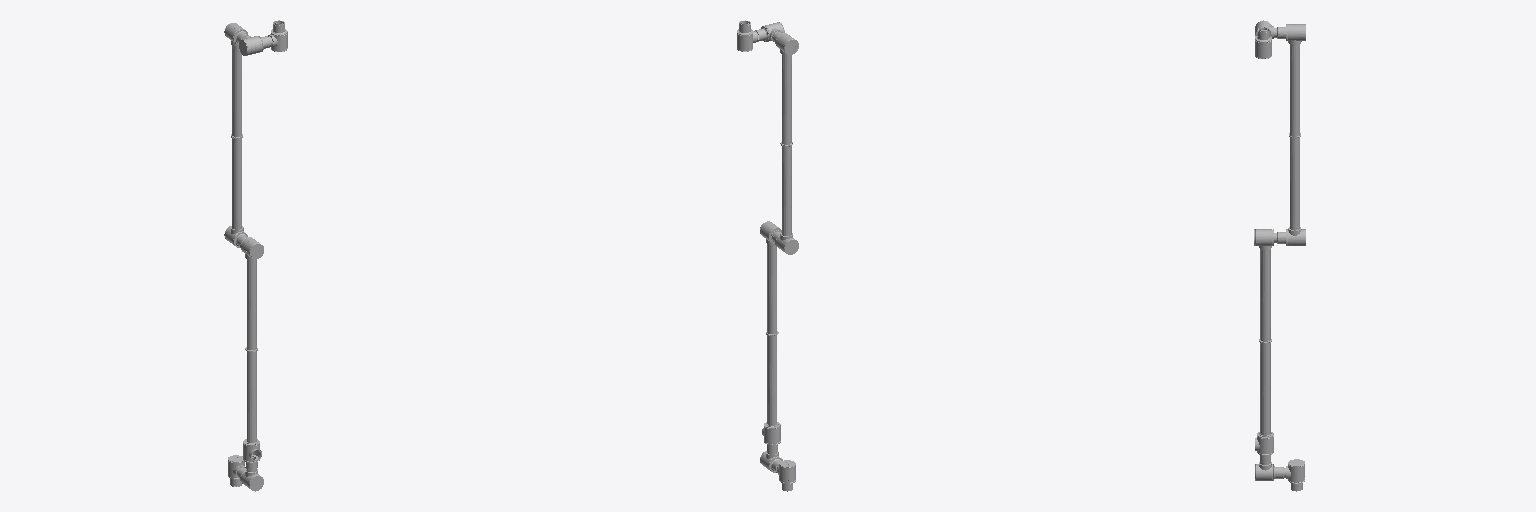
The robot description file, URDF, robot "urdf0fixed":
<?xml version="1.0" encoding="utf-8"?>
<!-- This URDF was automatically created by SolidWorks to URDF Exporter! Originally created by Stephen Brawner ([email redacted]) 
     Commit Version: 1.6.0-4-g7f85cfe  Build Version: 1.6.7995.38578
     For more information, please see http://wiki.ros.org/sw_urdf_exporter 111-->
<robot
  name="urdf0fixed">
  <link
    name="base_link">
    <!-- <inertial>
      <origin
        xyz="8.7299E-06 0.00011054 0.069201"
        rpy="0 0 0" />
      <mass
        value="5.0287" />
      <inertia
        ixx="0.016781"
        ixy="2.5869E-06"
        ixz="-9.7088E-07"
        iyy="0.016813"
        iyz="-1.2293E-05"
        izz="0.028424" />
    </inertial> -->
    <visual>
      <origin
        xyz="0 0 0"
        rpy="0 0 0" />
      <geometry>
        <mesh
          filename="package://space_driver/config/urdf0/meshes/base_link.STL" />
      </geometry>
      <material
        name="">
        <color
          rgba="0.75294 0.75294 0.75294 1" />
      </material>
    </visual>
    <collision>
      <origin
        xyz="0 0 0"
        rpy="0 0 0" />
      <geometry>
        <mesh
          filename="package://space_driver/config/urdf0/meshes/base_link.STL" />
      </geometry>
    </collision>
  </link>
  <link
    name="Link1">
    <inertial>
      <origin
        xyz="-2.041E-05 0.011302 0.065522"
        rpy="0 0 0" />
      <mass
        value="55.744" />
      <inertia
        ixx="0.72781"
        ixy="-6.083E-06"
        ixz="-2.129E-07"
        iyy="0.92755"
        iyz="0.022055"
        izz="1.0452" />
    </inertial>
    <visual>
      <origin
        xyz="0 0 0"
        rpy="0 0 0" />
      <geometry>
        <mesh
          filename="package://space_driver/config/urdf0/meshes/Link1.STL" />
      </geometry>
      <material
        name="">
        <color
          rgba="0.75294 0.75294 0.75294 1" />
      </material>
    </visual>
    <collision>
      <origin
        xyz="0 0 0"
        rpy="0 0 0" />
      <geometry>
        <mesh
          filename="package://space_driver/config/urdf0/meshes/Link1.STL" />
      </geometry>
    </collision>
  </link>
  <joint
    name="joint1"
    type="fixed">
    <origin
      xyz="0 0 0.38932"
      rpy="3.1416 0 0" />
    <parent
      link="base_link" />
    <child
      link="Link1" />
    <axis
      xyz="0 0 1" />
    <hardware id="0" type="driver">
            <limit lower="-0.0001" upper="0.0001" vel="0.1" acc="1.0" jerk="1.0" effort="30.0"/>
            <transform ratio="1.0" offset_pos_cnt="0" cnt_per_unit="140184287.42160" torque_per_unit="1.0" user_unit_name="rad"/>
             <inputs name="Inputs">
                <status_word>Statusword</status_word>
                <position_actual_value>Position actual value</position_actual_value>
                <velocity_actual_value>Velocity actual value</velocity_actual_value>
                <torque_actual_value>Torque actual value</torque_actual_value>
                <load_torque_value>Analog Input 1</load_torque_value>
                <secondary_position_value>Auxiliary position actual value</secondary_position_value>
                <secondary_velocity_value>Secondary velocity value</secondary_velocity_value>
            </inputs>
            <outputs name="Outputs">
                <control_word>Controlword</control_word>
                <mode_of_operation>Modes of operation</mode_of_operation>
                <target_position>Target position</target_position>
                <target_velocity>Target velocity</target_velocity>
                <target_torque>Target torque</target_torque>
            </outputs>        
        </hardware>
  </joint>
  <link
    name="Link2">
    <inertial>
      <origin
        xyz="1.2631E-05 -0.009987 0.099695"
        rpy="0 0 0" />
      <mass
        value="63.019" />
      <inertia
        ixx="0.76516"
        ixy="4.9711E-06"
        ixz="5.2419E-06"
        iyy="0.96484"
        iyz="-0.022055"
        izz="1.1145" />
    </inertial>
    <visual>
      <origin
        xyz="0 0 0"
        rpy="0 0 0" />
      <geometry>
        <mesh
          filename="package://space_driver/config/urdf0/meshes/Link2.STL" />
      </geometry>
      <material
        name="">
        <color
          rgba="0.75294 0.75294 0.75294 1" />
      </material>
    </visual>
    <collision>
      <origin
        xyz="0 0 0"
        rpy="0 0 0" />
      <geometry>
        <mesh
          filename="package://space_driver/config/urdf0/meshes/Link2.STL" />
      </geometry>
    </collision>
  </link>
  <joint
    name="joint2"
    type="continuous">
    <origin
      xyz="0 0.6115 0"
      rpy="1.5708 0 0" />
    <parent
      link="Link1" />
    <child
      link="Link2" />
    <axis
      xyz="0 0 1" />
    <hardware id="1" type="driver">
            <limit lower="-3.1415926" upper="3.1415926" vel="0.1" acc="1.0" jerk="1.0" effort="30.0"/>
            <transform ratio="1.0" offset_pos_cnt="0" cnt_per_unit="140184287.42160" torque_per_unit="1.0" user_unit_name="rad"/>
            <inputs name="Inputs">
                <status_word>Statusword</status_word>
                <position_actual_value>Position actual value</position_actual_value>
                <velocity_actual_value>Velocity actual value</velocity_actual_value>
                <torque_actual_value>Torque actual value</torque_actual_value>
                <load_torque_value>Analog Input 1</load_torque_value>
                <secondary_position_value>Auxiliary position actual value</secondary_position_value>
                <secondary_velocity_value>Secondary velocity value</secondary_velocity_value>
            </inputs>
            <outputs name="Outputs">
                <control_word>Controlword</control_word>
                <mode_of_operation>Modes of operation</mode_of_operation>
                <target_position>Target position</target_position>
                <target_velocity>Target velocity</target_velocity>
                <target_torque>Target torque</target_torque>
            </outputs>  
        </hardware>
   
  </joint>
  <link
    name="Link3">
    <inertial>
      <origin
        xyz="7.9595E-05 0.0035265 2.4959"
        rpy="0 0 0" />
      <mass
        value="212.87" />
      <inertia
        ixx="27.578"
        ixy="-0.0011073"
        ixz="-0.00024036"
        iyy="28.074"
        iyz="9.7846E-05"
        izz="2.9769" />
    </inertial>
    <visual>
      <origin
        xyz="0 0 0"
        rpy="0 0 0" />
      <geometry>
        <mesh
          filename="package://space_driver/config/urdf0/meshes/Link3.STL" />
      </geometry>
      <material
        name="">
        <color
          rgba="0.75294 0.75294 0.75294 1" />
      </material>
    </visual>
    <collision>
      <origin
        xyz="0 0 0"
        rpy="0 0 0" />
      <geometry>
        <mesh
          filename="package://space_driver/config/urdf0/meshes/Link3.STL" />
      </geometry>
    </collision>
  </link>
  <joint
    name="joint3"
    type="fixed">
    <origin
      xyz="0 -5.0815 0"
      rpy="-1.5708 0 0" />
    <parent
      link="Link2" />
    <child
      link="Link3" />
    <axis
      xyz="0 0 1" />
    <hardware id="2" type="driver">
            <limit lower="-0.0001" upper="0.0001" vel="0.1" acc="1.0" jerk="1.0" effort="30.0" />
            <transform ratio="1.0" offset_pos_cnt="0" cnt_per_unit="140184287.42160" torque_per_unit="1.0" user_unit_name="rad"/>
            <inputs name="Inputs">
                <status_word>Statusword</status_word>
                <position_actual_value>Position actual value</position_actual_value>
                <velocity_actual_value>Velocity actual value</velocity_actual_value>
                <torque_actual_value>Torque actual value</torque_actual_value>
                <load_torque_value>Analog Input 1</load_torque_value>
                <secondary_position_value>Auxiliary position actual value</secondary_position_value>
                <secondary_velocity_value>Secondary velocity value</secondary_velocity_value>
            </inputs>
            <outputs name="Outputs">
                <control_word>Controlword</control_word>
                <mode_of_operation>Modes of operation</mode_of_operation>
                <target_position>Target position</target_position>
                <target_velocity>Target velocity</target_velocity>
                <target_torque>Target torque</target_torque>
            </outputs>  
        </hardware>
    
  </joint>
  <link
    name="Link4">
    <inertial>
      <origin
        xyz="2.22 1.8989E-13 0.52113"
        rpy="0 0 0" />
      <mass
        value="226.93" />
      <inertia
        ixx="2.9105"
        ixy="9.9422E-06"
        ixz="-1.2269E-13"
        iyy="27.692"
        iyz="2.038E-14"
        izz="28.391" />
    </inertial>
    <visual>
      <origin
        xyz="0 0 0"
        rpy="0 0 0" />
      <geometry>
        <mesh
          filename="package://space_driver/config/urdf0/meshes/Link4.STL" />
      </geometry>
      <material
        name="">
        <color
          rgba="0.75294 0.75294 0.75294 1" />
      </material>
    </visual>
    <collision>
      <origin
        xyz="0 0 0"
        rpy="0 0 0" />
      <geometry>
        <mesh
          filename="package://space_driver/config/urdf0/meshes/Link4.STL" />
      </geometry>
    </collision>
  </link>
  <joint
    name="joint4"
    type="continuous">
    <origin
      xyz="0 0 0"
      rpy="1.5708 1.5708 0" />
    <parent
      link="Link3" />
    <child
      link="Link4" />
    <axis
      xyz="0 0 1" />
    <hardware id="3" type="driver">
            <limit lower="-3.1415926" upper="3.1415926" vel="0.1" acc="1.0" jerk="1.0" effort="30.0"/>
            <transform ratio="1.0" offset_pos_cnt="0" cnt_per_unit="140184287.42160" torque_per_unit="1.0" user_unit_name="rad"/>
            <inputs name="Inputs">
                <status_word>Statusword</status_word>
                <position_actual_value>Position actual value</position_actual_value>
                <velocity_actual_value>Velocity actual value</velocity_actual_value>
                <torque_actual_value>Torque actual value</torque_actual_value>
                <load_torque_value>Analog Input 1</load_torque_value>
                <secondary_position_value>Auxiliary position actual value</secondary_position_value>
                <secondary_velocity_value>Secondary velocity value</secondary_velocity_value>
            </inputs>
            <outputs name="Outputs">
                <control_word>Controlword</control_word>
                <mode_of_operation>Modes of operation</mode_of_operation>
                <target_position>Target position</target_position>
                <target_velocity>Target velocity</target_velocity>
                <target_torque>Target torque</target_torque>
            </outputs>  
        </hardware>
    
  </joint>
  <link
    name="Link5">
    <inertial>
      <origin
        xyz="1.2631E-05 -0.099695 -0.009987"
        rpy="0 0 0" />
      <mass
        value="63.019" />
      <inertia
        ixx="0.76516"
        ixy="-5.2419E-06"
        ixz="4.9711E-06"
        iyy="1.1145"
        iyz="0.022055"
        izz="0.96484" />
    </inertial>
    <visual>
      <origin
        xyz="0 0 0"
        rpy="0 0 0" />
      <geometry>
        <mesh
          filename="package://space_driver/config/urdf0/meshes/Link5.STL" />
      </geometry>
      <material
        name="">
        <color
          rgba="0.75294 0.75294 0.75294 1" />
      </material>
    </visual>
    <collision>
      <origin
        xyz="0 0 0"
        rpy="0 0 0" />
      <geometry>
        <mesh
          filename="package://space_driver/config/urdf0/meshes/Link5.STL" />
      </geometry>
    </collision>
  </link>
  <joint
    name="joint5"
    type="continuous">
    <origin
      xyz="4.44 0 -0.035"
      rpy="3.1416 0 0" />
    <parent
      link="Link4" />
    <child
      link="Link5" />
    <axis
      xyz="0 0 1" />
    <hardware id="4" type="driver">
            <limit lower="-3.1415926" upper="3.1415926" vel="0.1" acc="1.0" jerk="1.0" effort="30.0"/>
            <transform ratio="1.0" offset_pos_cnt="0" cnt_per_unit="140184287.42160" torque_per_unit="1.0" user_unit_name="rad"/>
            <inputs name="Inputs">
                <status_word>Statusword</status_word>
                <position_actual_value>Position actual value</position_actual_value>
                <velocity_actual_value>Velocity actual value</velocity_actual_value>
                <torque_actual_value>Torque actual value</torque_actual_value>
                <load_torque_value>Analog Input 1</load_torque_value>
                <secondary_position_value>Auxiliary position actual value</secondary_position_value>
                <secondary_velocity_value>Secondary velocity value</secondary_velocity_value>
            </inputs>
            <outputs name="Outputs">
                <control_word>Controlword</control_word>
                <mode_of_operation>Modes of operation</mode_of_operation>
                <target_position>Target position</target_position>
                <target_velocity>Target velocity</target_velocity>
                <target_torque>Target torque</target_torque>
            </outputs>  
        </hardware>
    
  </joint>
  <link
    name="Link6">
    <inertial>
      <origin
        xyz="-2.041E-05 0.065522 -0.011302"
        rpy="0 0 0" />
      <mass
        value="55.744" />
      <inertia
        ixx="0.72781"
        ixy="-2.129E-07"
        ixz="6.083E-06"
        iyy="1.0452"
        iyz="-0.022055"
        izz="0.92755" />
    </inertial>
    <visual>
      <origin
        xyz="0 0 0"
        rpy="0 0 0" />
      <geometry>
        <mesh
          filename="package://space_driver/config/urdf0/meshes/Link6.STL" />
      </geometry>
      <material
        name="">
        <color
          rgba="0.75294 0.75294 0.75294 1" />
      </material>
    </visual>
    <collision>
      <origin
        xyz="0 0 0"
        rpy="0 0 0" />
      <geometry>
        <mesh
          filename="package://space_driver/config/urdf0/meshes/Link6.STL" />
      </geometry>
    </collision>
  </link>
  <joint
    name="joint6"
    type="fixed">
    <origin
      xyz="0 -0.6115 0"
      rpy="1.5708 1.5708 0" />
    <parent
      link="Link5" />
    <child
      link="Link6" />
    <axis
      xyz="0 0 1" />
    <hardware id="5" type="driver">
            <limit lower="-0.0001" upper="0.0001" vel="0.1" acc="1.0" jerk="1.0" effort="30.0" />
            <transform ratio="1.0" offset_pos_cnt="0" cnt_per_unit="140184287.42160" torque_per_unit="1.0" user_unit_name="rad"/>
            <inputs name="Inputs">
                <status_word>Statusword</status_word>
                <position_actual_value>Position actual value</position_actual_value>
                <velocity_actual_value>Velocity actual value</velocity_actual_value>
                <torque_actual_value>Torque actual value</torque_actual_value>
                <load_torque_value>Analog Input 1</load_torque_value>
                <secondary_position_value>Auxiliary position actual value</secondary_position_value>
                <secondary_velocity_value>Secondary velocity value</secondary_velocity_value>
            </inputs>
            <outputs name="Outputs">
                <control_word>Controlword</control_word>
                <mode_of_operation>Modes of operation</mode_of_operation>
                <target_position>Target position</target_position>
                <target_velocity>Target velocity</target_velocity>
                <target_torque>Target torque</target_torque>
            </outputs>  
        </hardware>
   
  </joint>
  <link
    name="Link7">
    <inertial>
      <origin
        xyz="-6.0729E-05 -9.277E-05 -0.044384"
        rpy="0 0 0" />
      <mass
        value="5.0287" />
      <inertia
        ixx="0.01679"
        ixy="1.5103E-05"
        ixz="-6.7539E-06"
        iyy="0.016804"
        iyz="-1.0317E-05"
        izz="0.028424" />
    </inertial>
    <visual>
      <origin
        xyz="0 0 0"
        rpy="0 0 0" />
      <geometry>
        <mesh
          filename="package://space_driver/config/urdf0/meshes/Link7.STL" />
      </geometry>
      <material
        name="">
        <color
          rgba="0.75294 0.75294 0.75294 1" />
      </material>
    </visual>
    <collision>
      <origin
        xyz="0 0 0"
        rpy="0 0 0" />
      <geometry>
        <mesh
          filename="package://space_driver/config/urdf0/meshes/Link7.STL" />
      </geometry>
    </collision>
  </link>
  <joint
    name="joint7"
    type="continuous">
    <origin
      xyz="0 0.3645 0"
      rpy="-1.5708 0 0" />
    <parent
      link="Link6" />
    <child
      link="Link7" />
    <axis
      xyz="0 0 1" />
    <hardware id="6" type="driver">
            <limit lower="-3.1415926" upper="3.1415926" vel="0.1" acc="1.0" jerk="1.0" effort="30.0"/>
            <transform ratio="1.0" offset_pos_cnt="0" cnt_per_unit="140184287.42160" torque_per_unit="1.0" user_unit_name="rad"/>
            <inputs name="Inputs">
                <status_word>Statusword</status_word>
                <position_actual_value>Position actual value</position_actual_value>
                <velocity_actual_value>Velocity actual value</velocity_actual_value>
                <torque_actual_value>Torque actual value</torque_actual_value>
                <load_torque_value>Analog Input 1</load_torque_value>
                <secondary_position_value>Auxiliary position actual value</secondary_position_value>
                <secondary_velocity_value>Secondary velocity value</secondary_velocity_value>
            </inputs>
            <outputs name="Outputs">
                <control_word>Controlword</control_word>
                <mode_of_operation>Modes of operation</mode_of_operation>
                <target_position>Target position</target_position>
                <target_velocity>Target velocity</target_velocity>
                <target_torque>Target torque</target_torque>
            </outputs>  
        </hardware>
      
  </joint>
</robot>

--- Facts derived from the render (not from the file) ---
3 views of the same robot in one strip: view 1: azimuth 30°, elevation 25°; view 2: azimuth 210°, elevation 25°; view 3: azimuth 270°, elevation 25° (orthographic).
Robot: urdf0fixed — 8 links, 7 joints (4 continuous, 3 fixed); root link base_link; default pose: all joints at 0.
Visible links, largest first — view 1: Link3, Link4; view 2: Link4, Link3; view 3: Link3, Link4.
Boxes of the visible links, <box> form: Link3: <box>240,237,263,472</box>; Link4: <box>224,23,248,247</box>; Link4: <box>771,30,798,254</box>; Link3: <box>760,221,781,455</box>; Link3: <box>1254,229,1273,465</box>; Link4: <box>1274,24,1305,245</box>.
Size in the robot's own frame: 0.9915 by 1.01 by 10.25 metres.
Meshes: 8 distinct files referenced, 8 mesh visuals loaded (8 binary STL).
